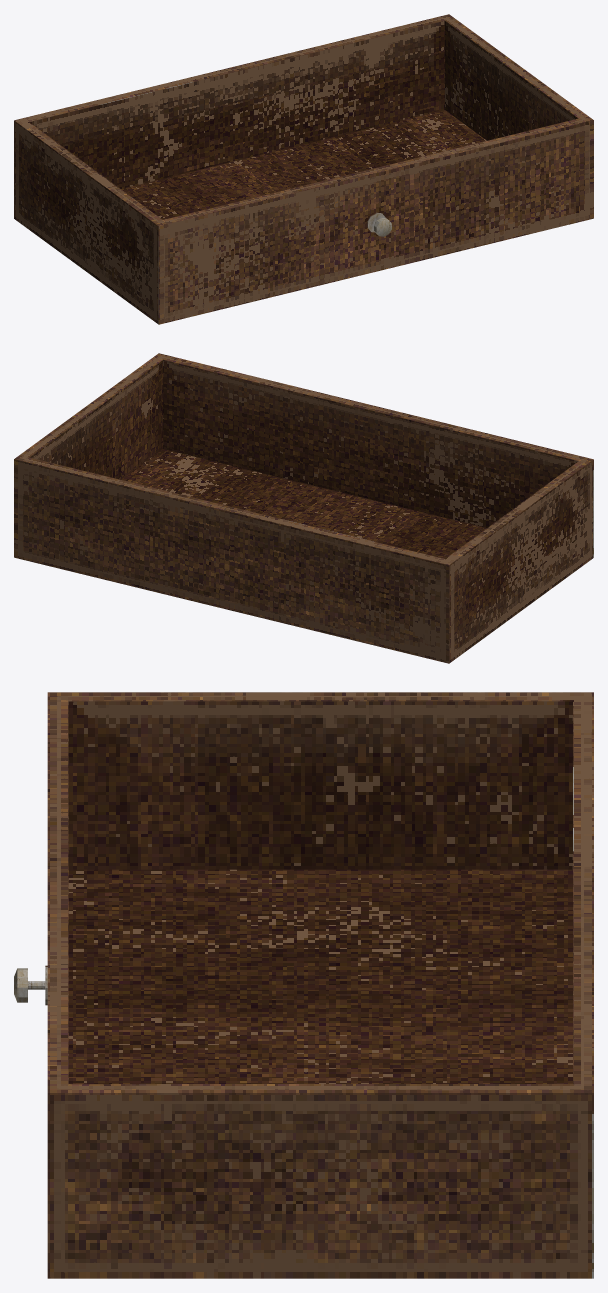
The model's file is Wardrobe_Drawer.glb.
3 renders of one model, top to bottom at view 1: azimuth 30°, elevation 25°; view 2: azimuth 150°, elevation 25°; view 3: azimuth 270°, elevation 25°, orthographic. The views are drawn at different scales.
Visible parts, largest first — view 1: Cylinder.030; view 2: Cylinder.030; view 3: Cylinder.030.
Boxes of the visible parts, bbox=[...] form: Cylinder.030: bbox=[14, 14, 593, 324]; Cylinder.030: bbox=[14, 353, 593, 663]; Cylinder.030: bbox=[14, 692, 593, 1278].
Bounding box in the file's own units: 0.9017 × 0.1948 × 0.5516.
Materials: 1 (1 with a texture image).
